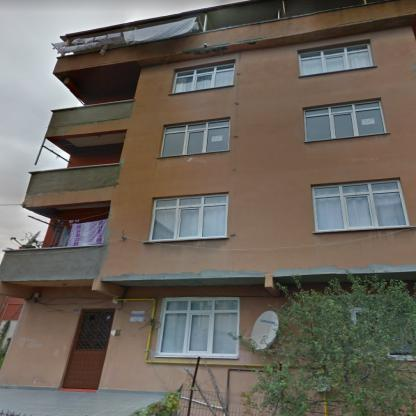door: (62, 311, 113, 388)
window: (314, 182, 406, 230), (160, 300, 238, 355), (151, 195, 227, 240), (305, 102, 385, 140), (162, 119, 230, 156), (299, 44, 372, 74), (172, 64, 233, 93)
